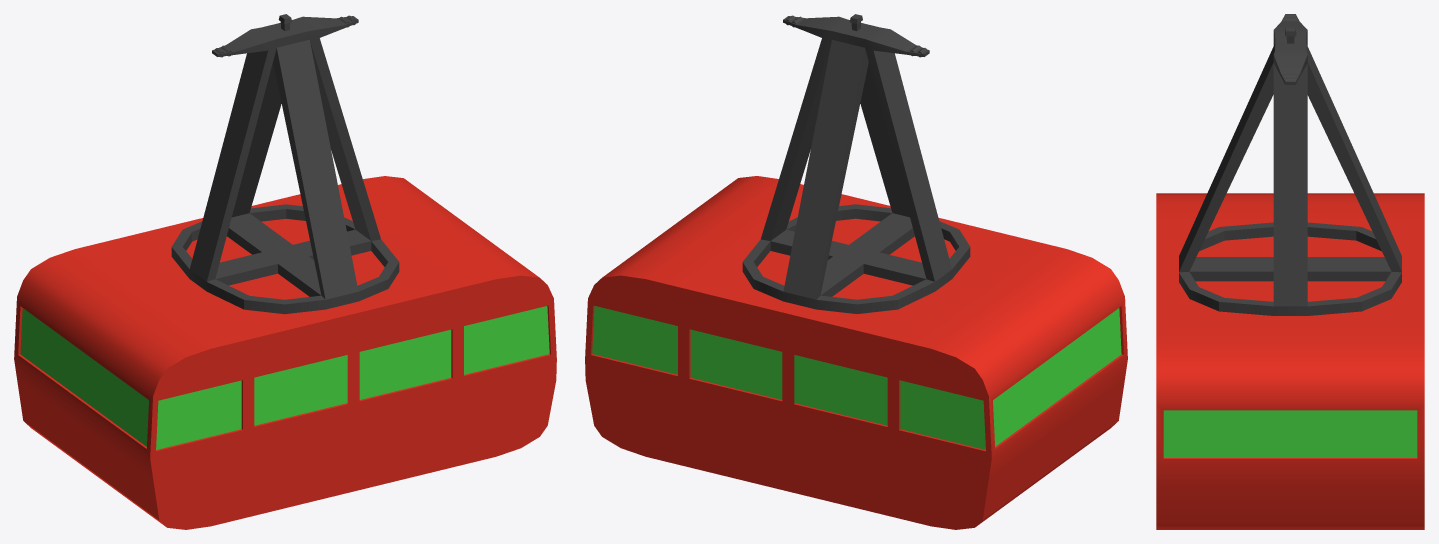
File: Ski_Lift_Mesh.fbx
The picture shows the model from 3 angles, left to right: view 1: azimuth 30°, elevation 25°; view 2: azimuth 150°, elevation 25°; view 3: azimuth 270°, elevation 25°; orthographic projection.
Parts seen in each view (by area): view 1: Ski_Lift; view 2: Ski_Lift; view 3: Ski_Lift.
Part boxes in pixels (x1,y1,x2,y2): Ski_Lift: (14, 14, 556, 529); Ski_Lift: (585, 14, 1127, 529); Ski_Lift: (1156, 14, 1424, 529).
Size of the model in its own units: 300 by 518 by 517.
